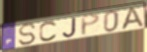0: (103, 10, 121, 33)
A: (120, 6, 146, 32)
C: (38, 20, 58, 42)
J: (61, 17, 77, 39)
P: (80, 13, 102, 37)
S: (18, 22, 38, 46)
